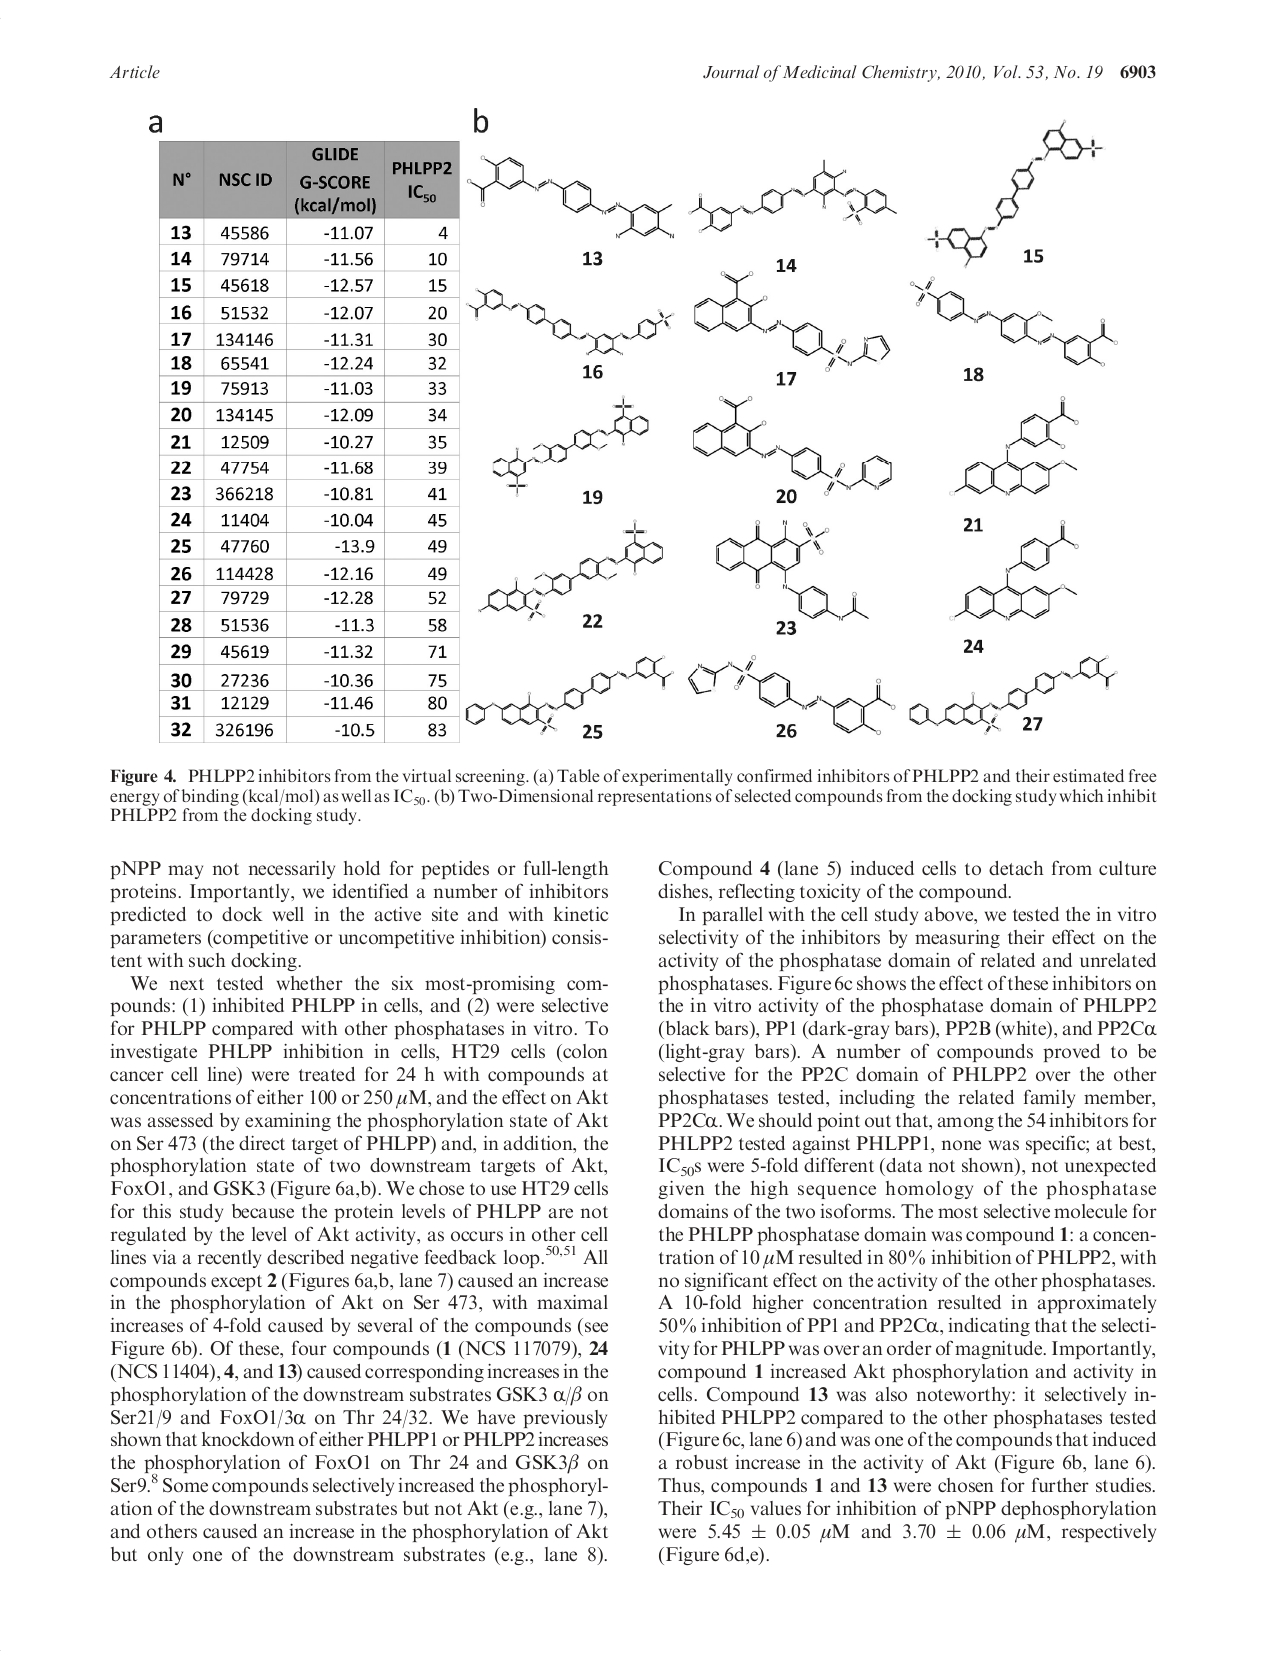exist_molecular: (924, 118, 1105, 269), (693, 391, 906, 497), (690, 269, 894, 372), (475, 519, 668, 621), (907, 275, 1118, 368), (465, 152, 680, 239), (464, 650, 676, 735), (688, 158, 900, 242), (908, 653, 1121, 737), (686, 652, 898, 735), (489, 394, 654, 500), (715, 515, 871, 624), (946, 392, 1081, 505), (465, 285, 677, 356), (947, 521, 1078, 618)
